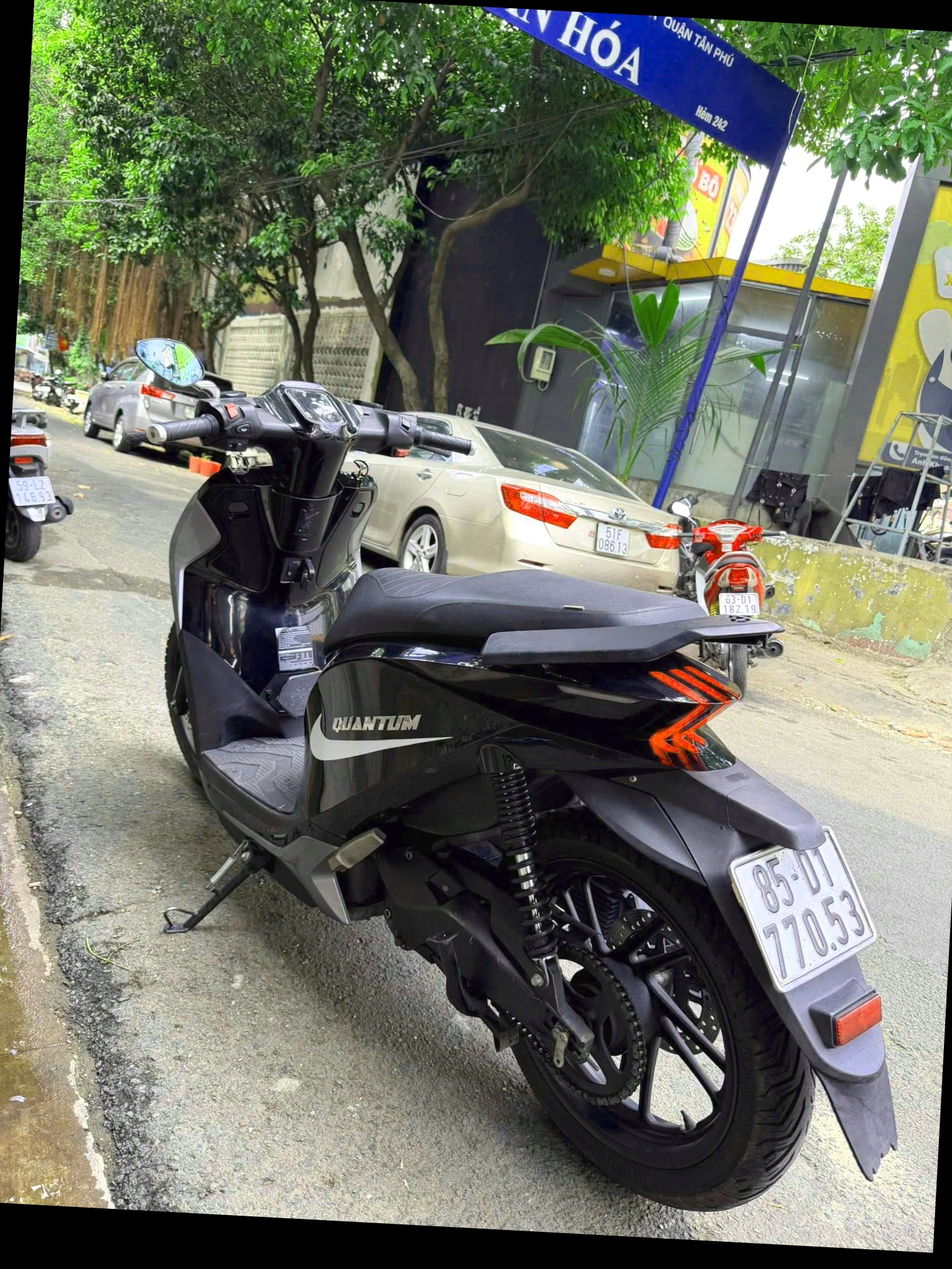Bien-so: (721, 823, 888, 997), (7, 469, 60, 515), (717, 591, 761, 618), (596, 520, 626, 555)
